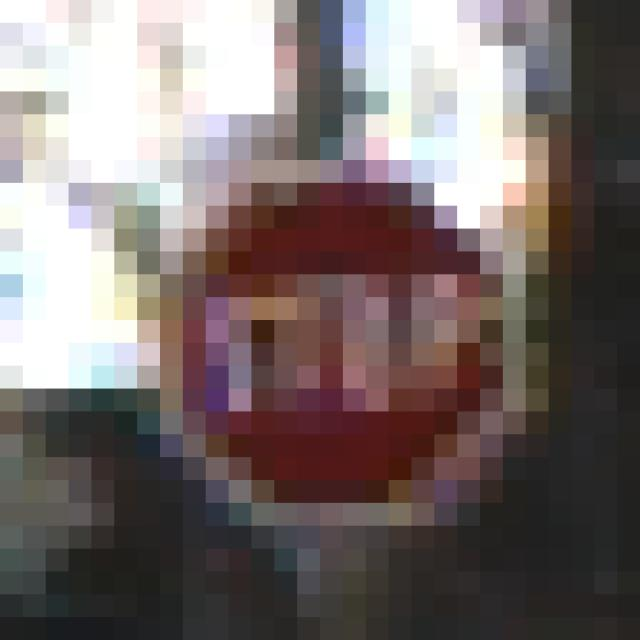STOP: (138, 138, 504, 527)
